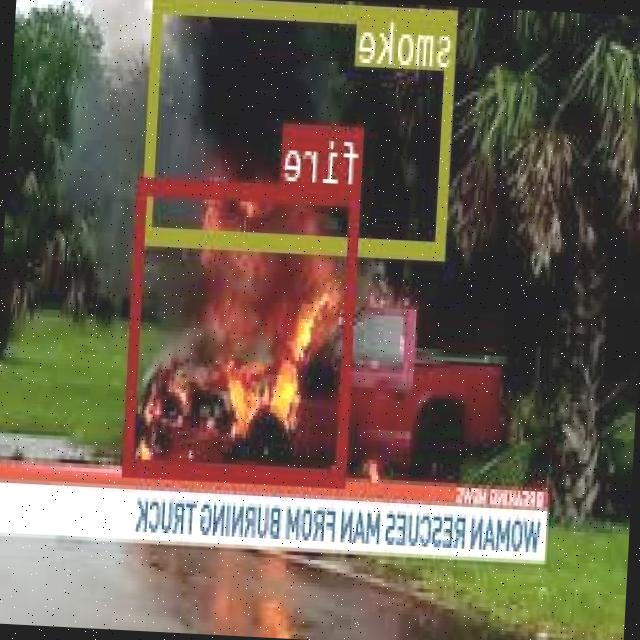fire: (124, 175, 363, 482)
smoke: (143, 0, 460, 258)
